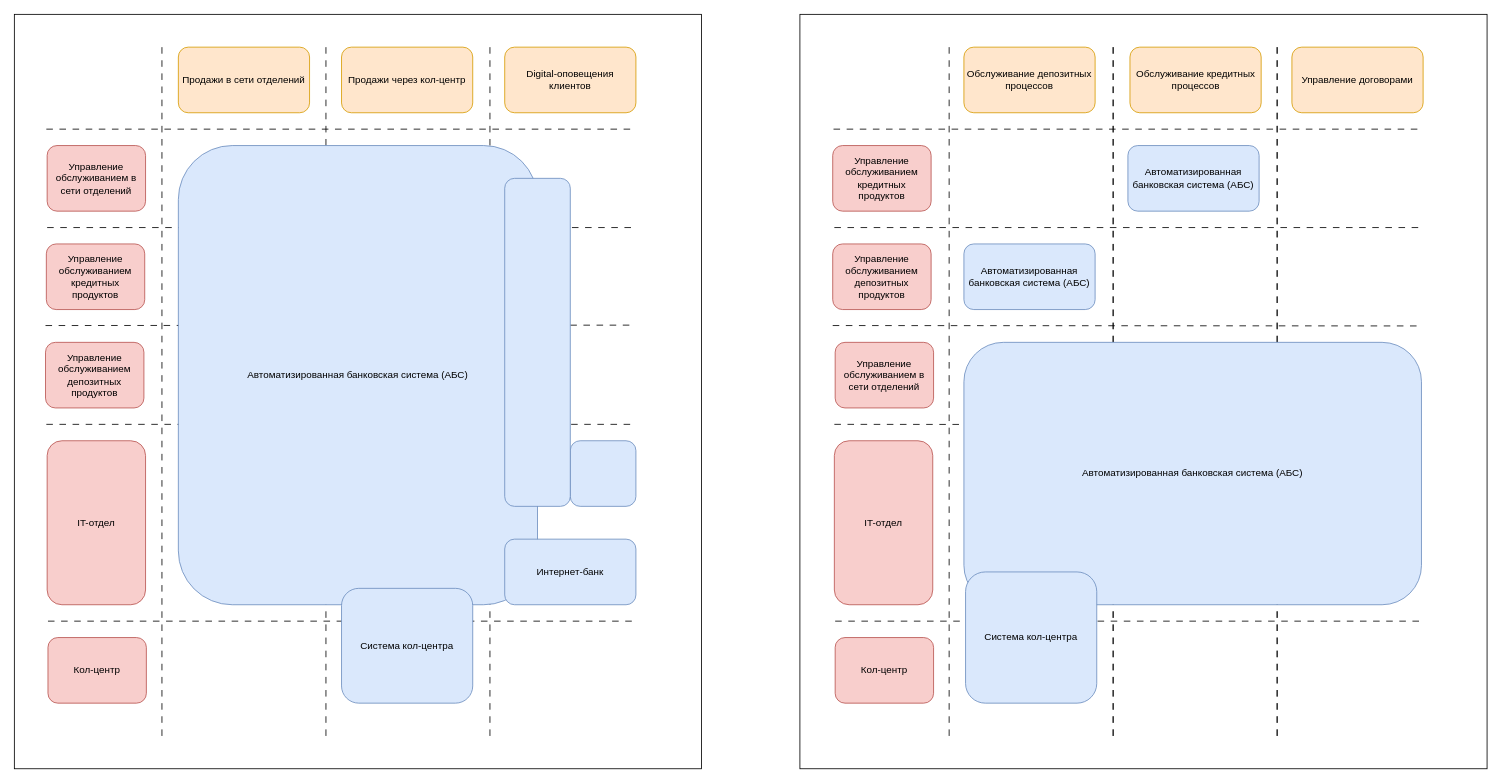
Some shapes in this 1501 by 783 pixel diagram are drawn without their labels. The shapes that lost their labels are listed below. From the top down, each one's centre as x and y in pixels, then its label:
At point (537, 342): "СМС-шлюз телеком-оператора".
At point (602, 473): "Сайт".
